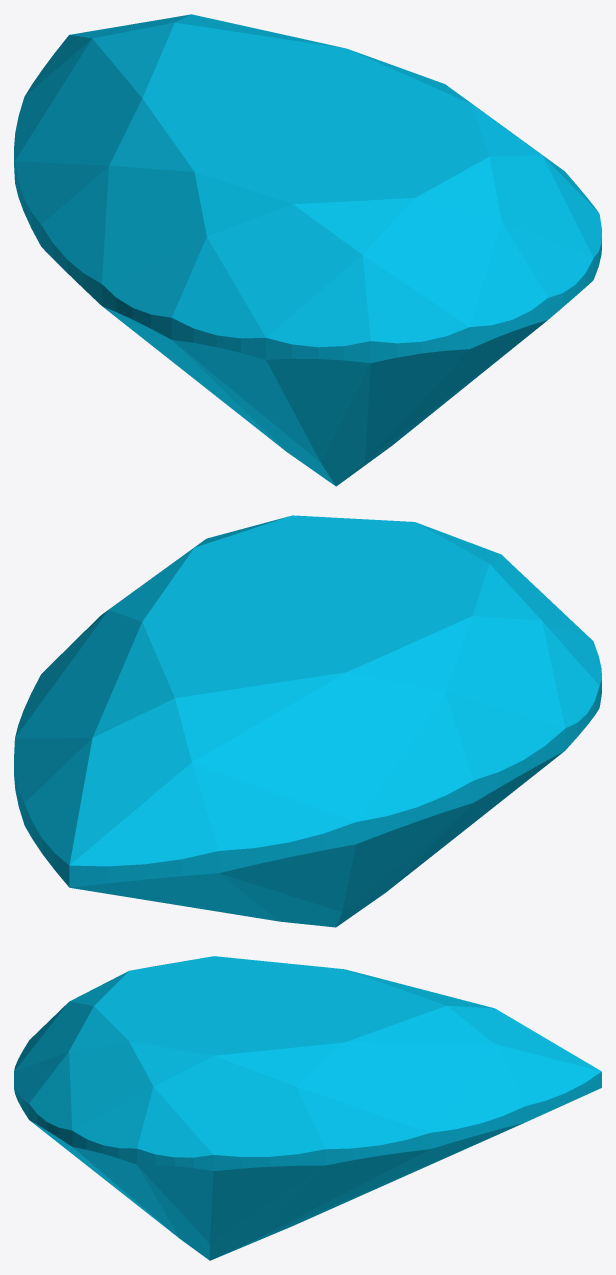
Rendered from Head_Hidden Halo_Pear_1.5ct_Diamond.glb.
The picture shows the model from 3 angles, top to bottom: view 1: azimuth 30°, elevation 25°; view 2: azimuth 150°, elevation 25°; view 3: azimuth 270°, elevation 25°; orthographic projection. The views are drawn at different scales.
Size of the model in its own units: 0.00646 by 0.00462 by 0.00966.
